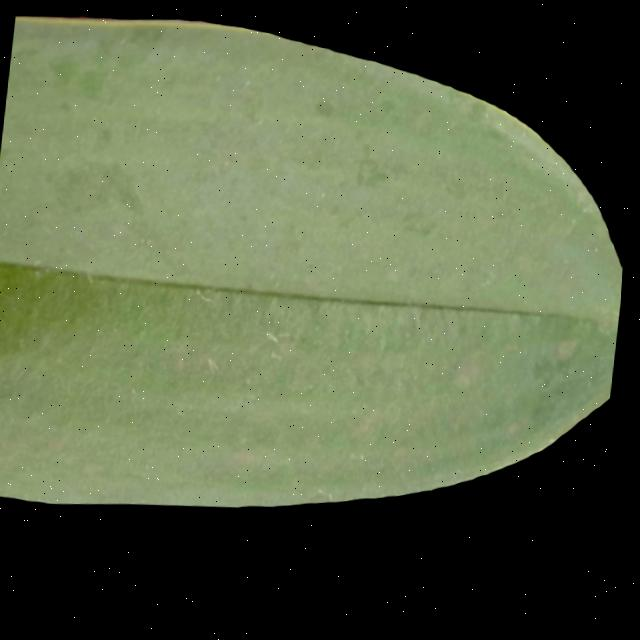mite: (0, 260, 102, 368), (304, 97, 405, 198), (532, 339, 587, 398), (46, 57, 112, 104), (350, 144, 398, 197), (355, 161, 393, 193), (534, 363, 563, 395), (48, 59, 81, 87), (379, 102, 399, 118)
spots: (0, 15, 638, 521)
